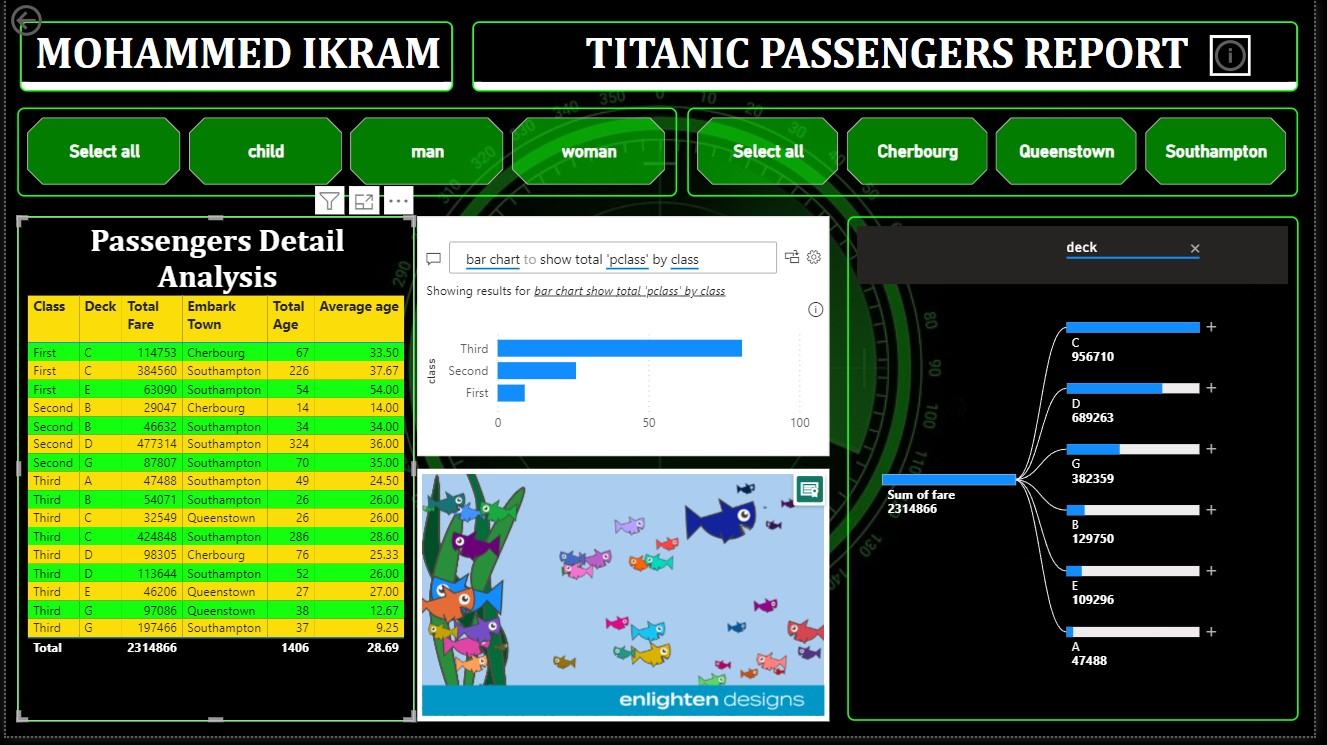

This screenshot's page, from the dashboard's own definition file:
{"tool":"powerbi","page":{"name":"Page 2","canvas":[1280,720],"ordinal":1},"visuals":[{"type":"textbox","title":"MOHAMMED IKRAM","box":[13.7,20.6,424,68.6],"z":0},{"type":"textbox","title":"TITANIC PASSENGERS REPORT","box":[455.6,20.6,808.2,68.6],"z":1000},{"type":"actionButton","box":[0,0,100,40],"z":2000},{"type":"advancedSlicerVisual","fields":{"Values":["Data.who"]},"box":[11,105.2,645.7,86.8],"z":3000},{"type":"advancedSlicerVisual","fields":{"Values":["Data.embark_town"]},"box":[666.4,105.2,598,86.8],"z":4000},{"type":"tableEx","title":"Passengers Detail Analysis","fields":{"Values":["Data.class","Data.deck","Data.fare","Data.embark_town","Data.age","Data.age"]},"box":[11,211.6,388.9,494],"z":5000},{"type":"Aquarium1442671919391","fields":{"Category":["Data.first_name"],"Series":["Data.age"]},"box":[402.1,458.3,403.4,247],"z":6000},{"type":"actionButton","box":[1177.6,34.2,40.4,40.4],"z":7000},{"type":"qnaVisual","box":[402.1,211.3,403.4,234.6],"z":7001},{"type":"decompositionTreeVisual","fields":{"Analyze":["Data.fare"],"ExplainBy":["Data.deck","Data.first_name","Data.sex"]},"box":[823.3,211.3,441.9,494],"z":7002}]}

Visuals, with their boxes in screenshot pixels (x1, y1, x2, y2), scaled from the page's 1280x720 canvas onto the 1327x745 screenshot:
"MOHAMMED IKRAM" textbox: x1=14, y1=21, x2=454, y2=92
"TITANIC PASSENGERS REPORT" textbox: x1=472, y1=21, x2=1310, y2=92
actionButton: x1=0, y1=0, x2=104, y2=41
advancedSlicerVisual - Data.who: x1=11, y1=109, x2=681, y2=199
advancedSlicerVisual - Data.embark_town: x1=691, y1=109, x2=1311, y2=199
"Passengers Detail Analysis" tableEx: x1=11, y1=219, x2=415, y2=730
Aquarium1442671919391 - Data.first_name x Data.age: x1=417, y1=474, x2=835, y2=730
actionButton: x1=1221, y1=35, x2=1263, y2=77
qnaVisual: x1=417, y1=219, x2=835, y2=461
decompositionTreeVisual - Data.fare x Data.deck: x1=854, y1=219, x2=1312, y2=730
